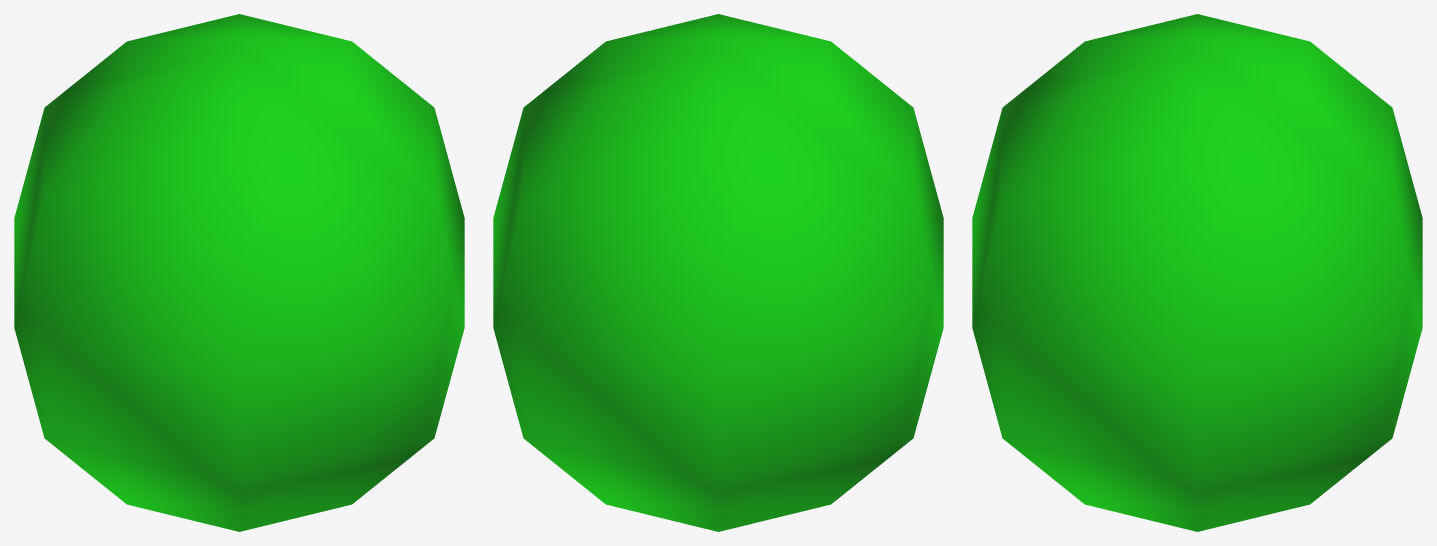
The model's file is Ball_Of_Light.fbx.
3 views of the same model, side by side, from view 1: azimuth 30°, elevation 25°; view 2: azimuth 150°, elevation 25°; view 3: azimuth 270°, elevation 25° (orthographic).
Visible parts, largest first — view 1: Ball_Light_Beam; view 2: Ball_Light_Beam; view 3: Ball_Light_Beam.
Part boxes in pixels (<box>): Ball_Light_Beam: <box>14,14,464,531</box>; Ball_Light_Beam: <box>493,14,943,531</box>; Ball_Light_Beam: <box>972,14,1422,531</box>.
Bounding box in the file's own units: 50 × 50 × 43.3.
